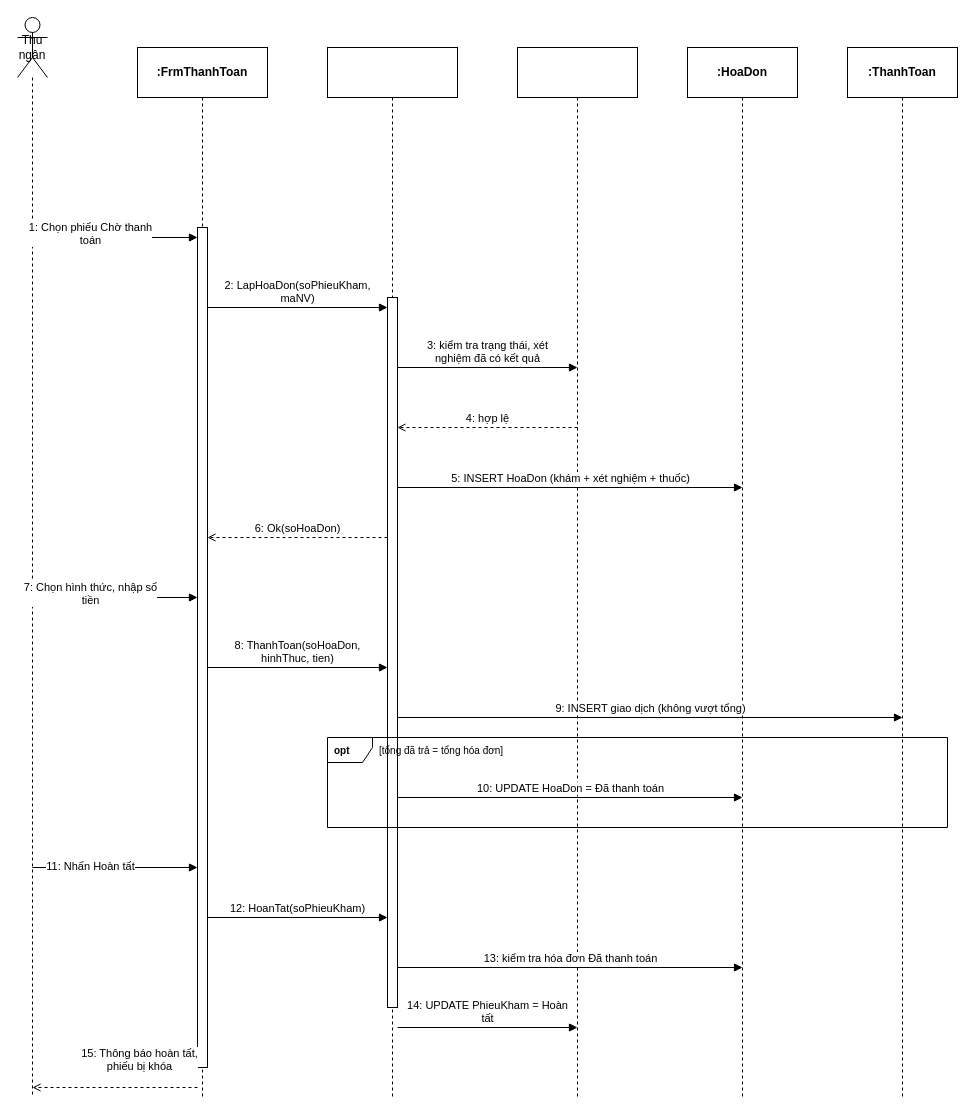
The diagram is 975 pixels wide and 1115 high, and some of its shapes have lost their labels. The box of each missing label's shape, as (x1, y1, x2, y2) in pixels:
:PhieuKham: (516, 46, 638, 1098)
:ThanhToanService: (326, 46, 458, 1098)
